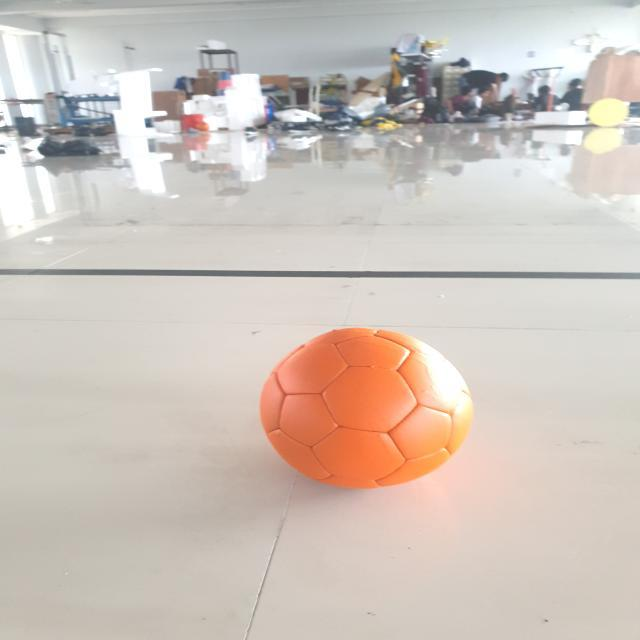bola: (258, 324, 478, 498)
